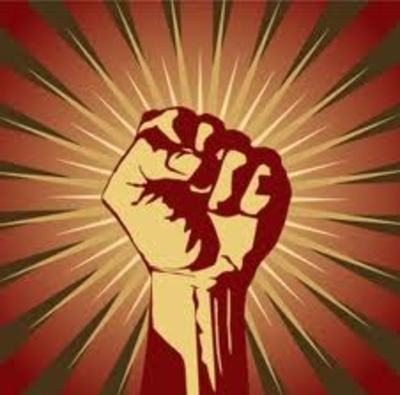closedhandfront: (95, 89, 305, 297)
